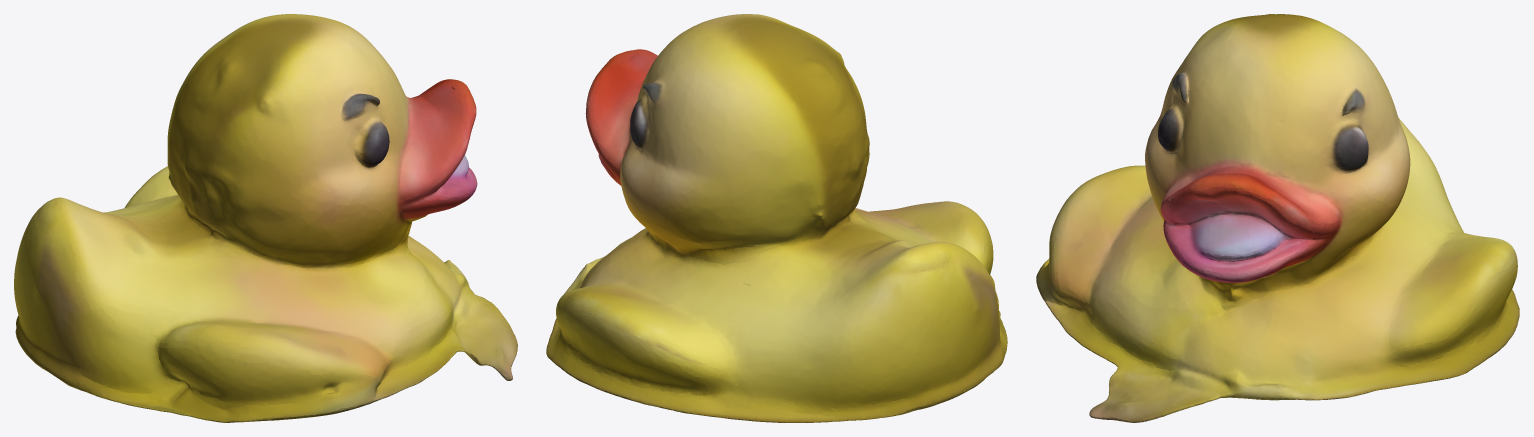
The picture shows the model from 3 angles, left to right: view 1: azimuth 30°, elevation 25°; view 2: azimuth 150°, elevation 25°; view 3: azimuth 270°, elevation 25°; orthographic projection. The views are drawn at different scales.
Visible parts, largest first — view 1: world; view 2: world; view 3: world.
Boxes of the visible parts, left/top/right/bottom form: world: left=14, top=14, right=517, bottom=422; world: left=546, top=14, right=1007, bottom=422; world: left=1036, top=14, right=1519, bottom=422.
Bounding box in the file's own units: 0.11 × 0.0825 × 0.11.
Materials: 1 (1 with a texture image).
